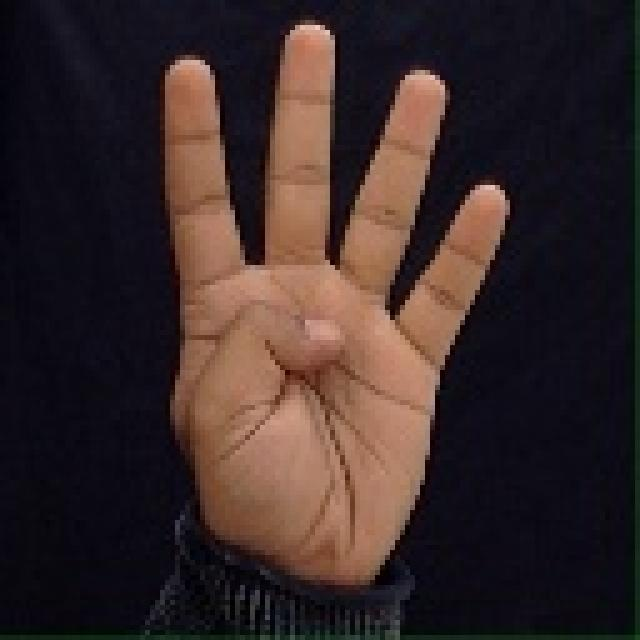Thanks: (138, 15, 533, 582)
